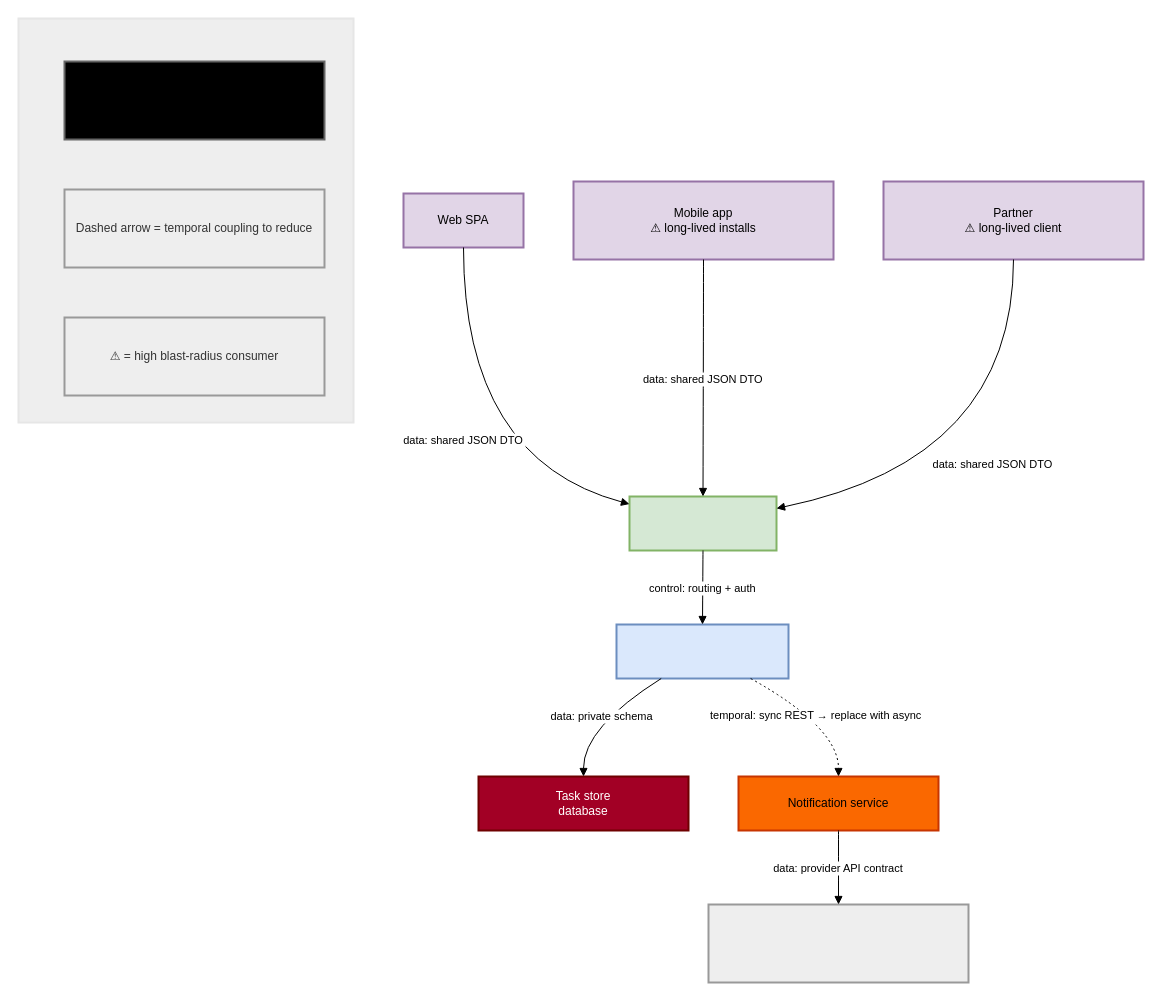
Image size: 1161x1000. Some labels were removed from this diagram. The box of each missing label's shape, as (x1, y1, x2, y2) in pixels:
API gateway: (628, 495, 777, 551)
Ext. delivery channel e.g. SMTP / APNs / FCM: (707, 903, 969, 983)
Legend: (17, 17, 354, 423)
Task API service: (615, 623, 789, 679)
